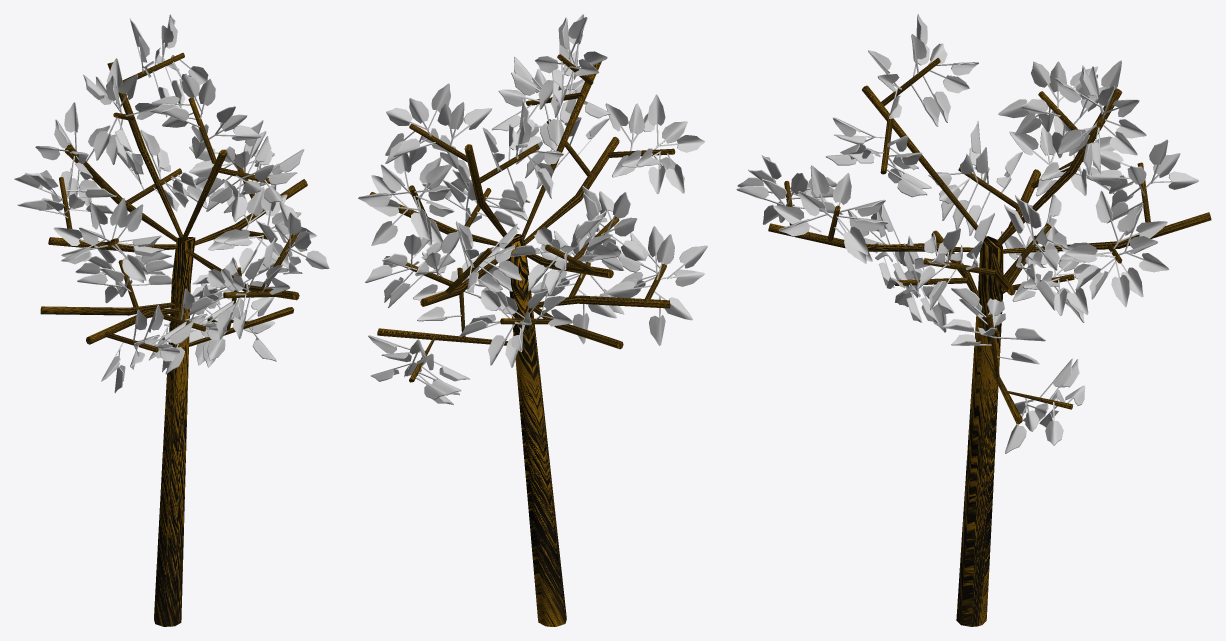
File: treebrush.fbx
3 views of the same model, side by side, from view 1: azimuth 30°, elevation 25°; view 2: azimuth 150°, elevation 25°; view 3: azimuth 270°, elevation 25° (orthographic). The views are drawn at different scales.
Visible parts, largest first — view 1: treetrunk, treebranch11 (×9); view 2: treetrunk, treebranch11 (×8); view 3: treetrunk, treebranch11 (×4).
Boxes of the visible parts, x1,y1,x2,y2 form: treetrunk: (154, 237, 195, 626); treebranch11 (×9): (40, 62, 307, 346); treetrunk: (504, 234, 566, 626); treebranch11 (×8): (377, 61, 670, 349); treetrunk: (956, 236, 1003, 626); treebranch11 (×4): (768, 85, 1211, 253).
Size of the model in its own units: 30.28 by 61.94 by 44.27.
